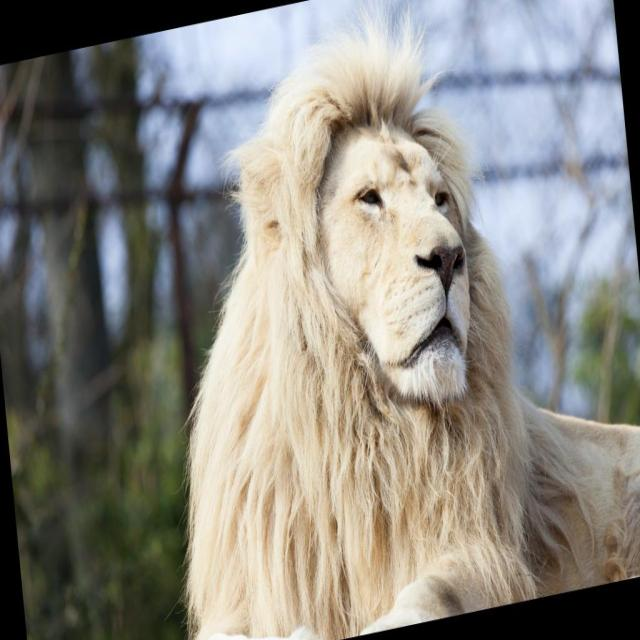Lion: (110, 0, 640, 639)
